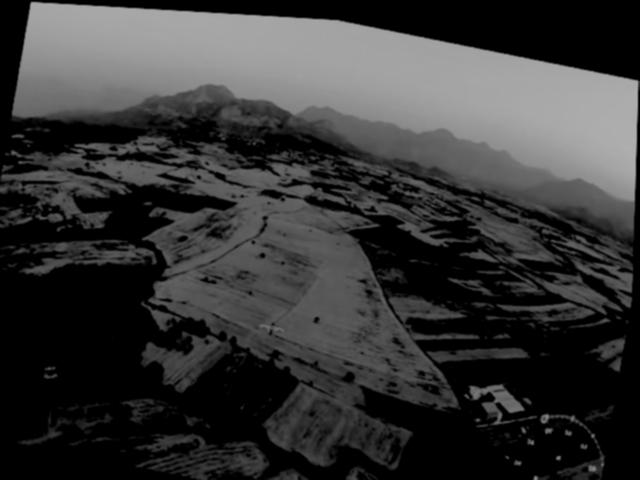hedef: (265, 460, 345, 480)
